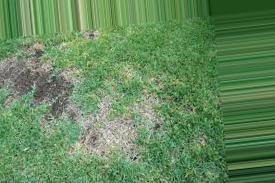patch: (74, 104, 135, 155), (11, 66, 75, 112), (122, 86, 174, 125)
